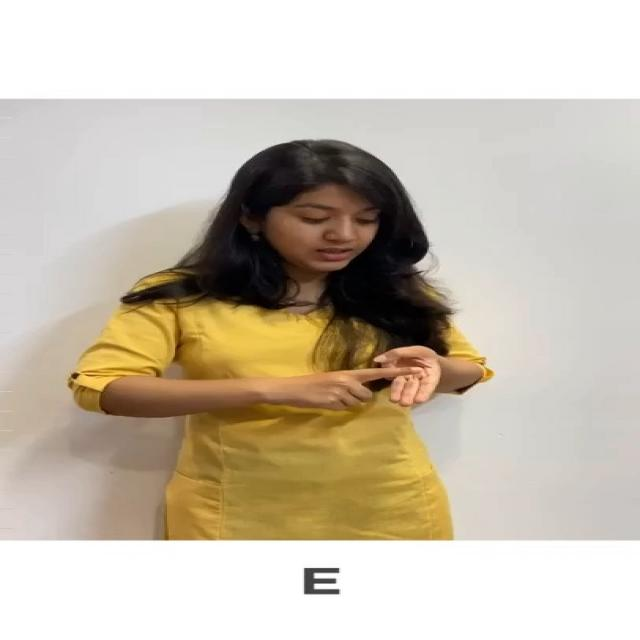E: (244, 337, 490, 420)
